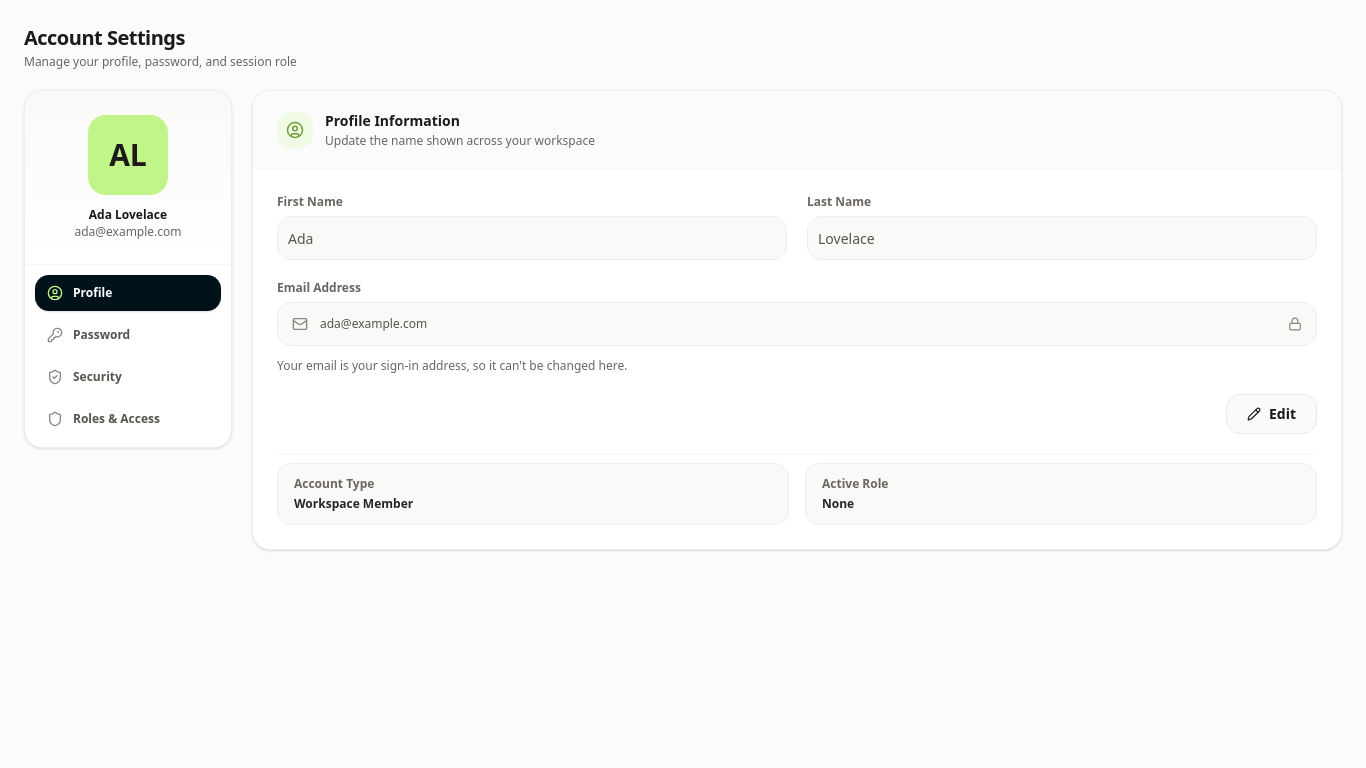
Test: AccountSettingsPage profile name › saves the joined name, updates the signed-in profile, and locks the fields again
This screenshot has width=1366, height=768.
Click the button with aria-label "Edit name": coordinates (1271, 414) [1226,394,1317,434]
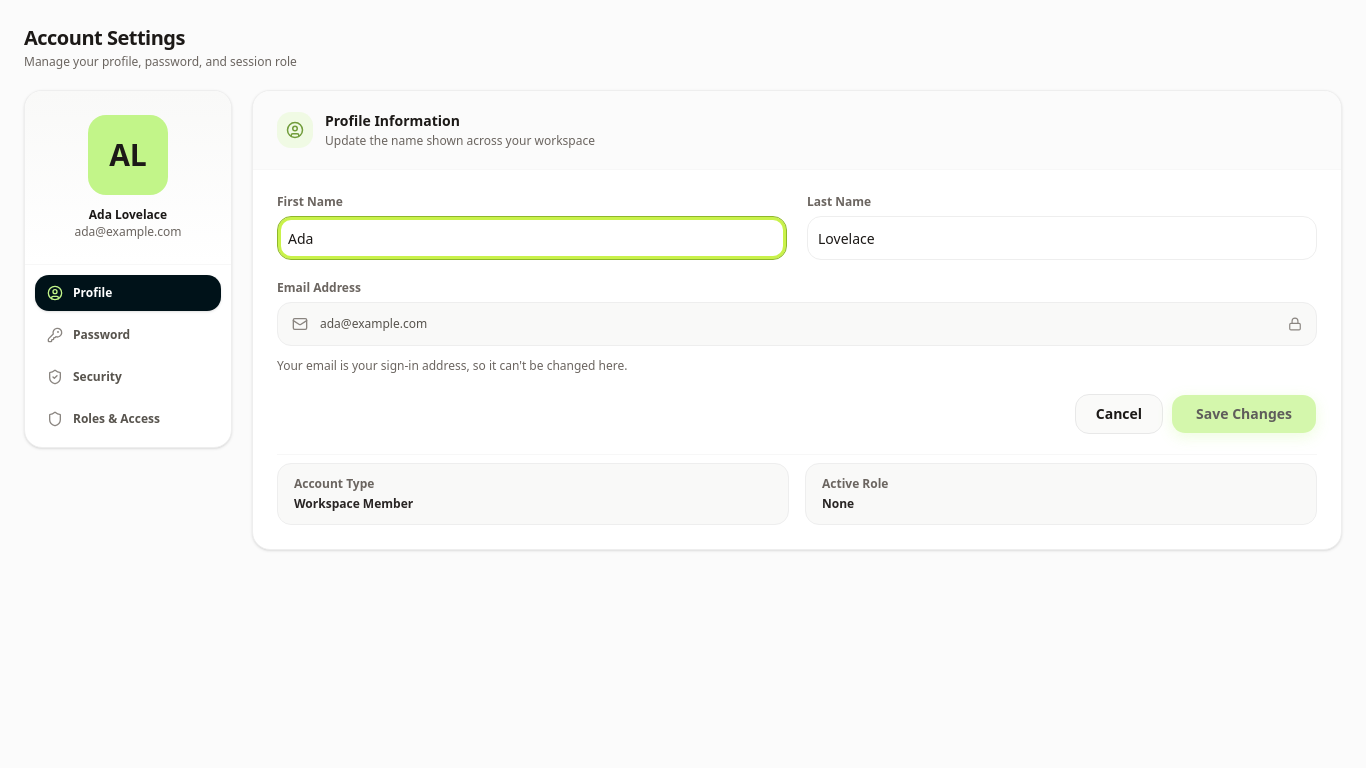
Replace the text in the field labelled "Last Name" with "Byron": coordinates (1062, 238) [807,216,1317,260]
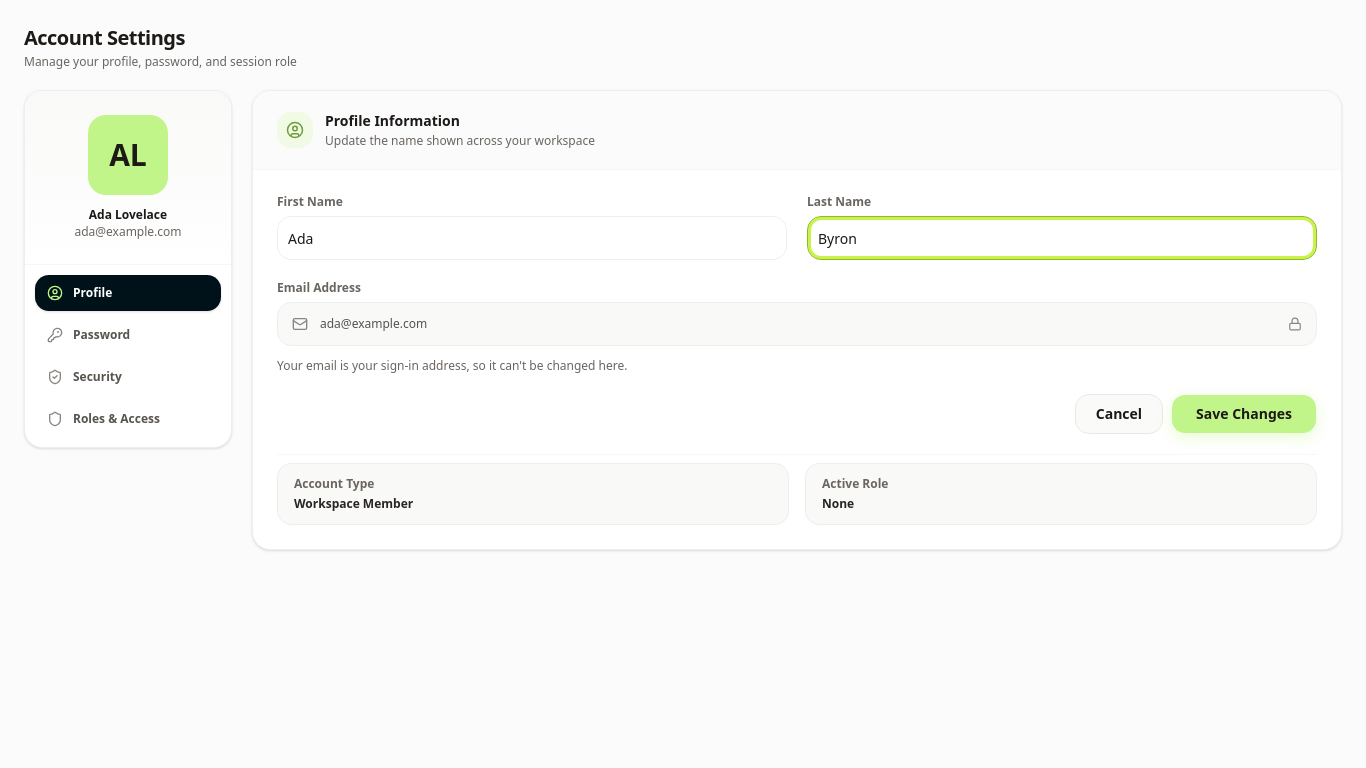
Click the button "Save Changes": coordinates (1244, 414) [1171,394,1317,434]
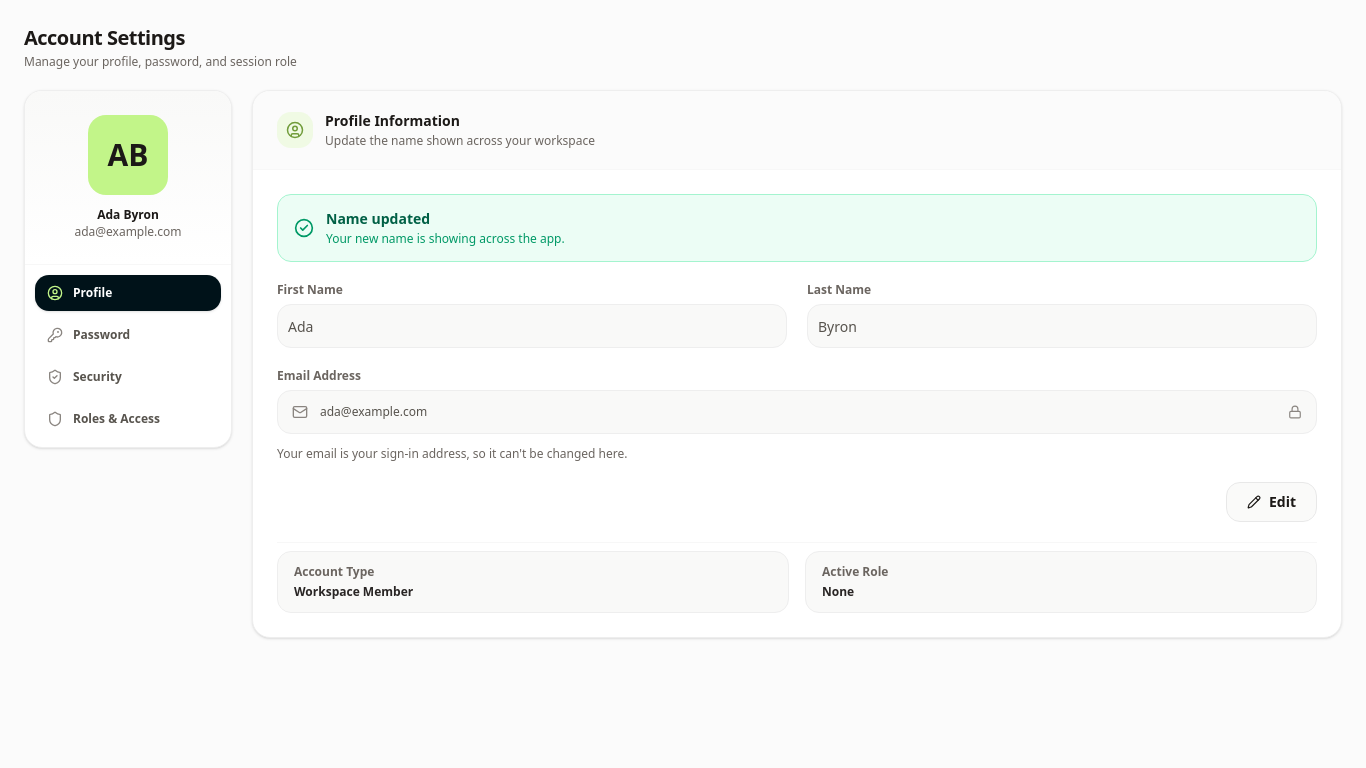
Expected: the text "Name updated" is shown, [326,209,430,228]
Expected: the text "Ada Byron" is shown, [97,206,159,223]
Expected: the button "Save Changes" is gone
